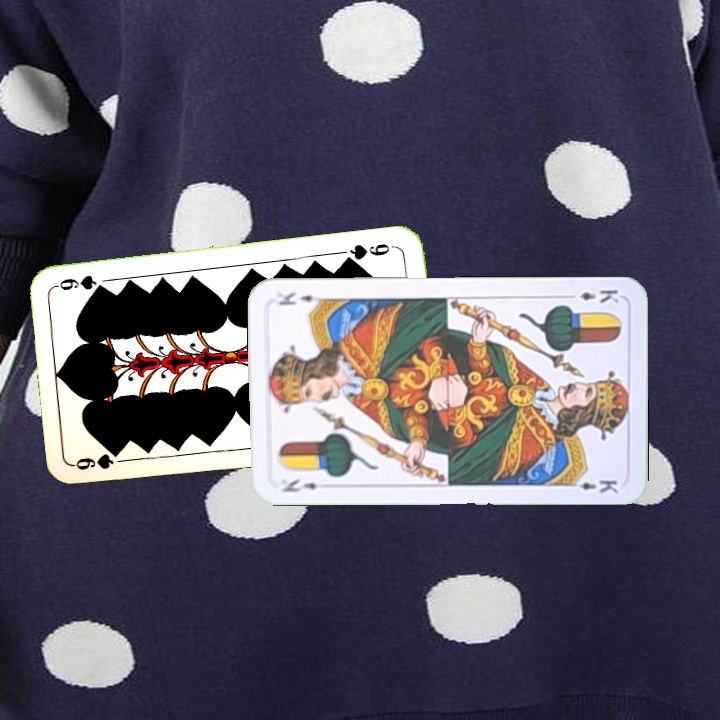EK: (562, 285, 621, 306), (279, 475, 320, 495)
G9: (340, 239, 398, 265), (71, 452, 131, 473)
